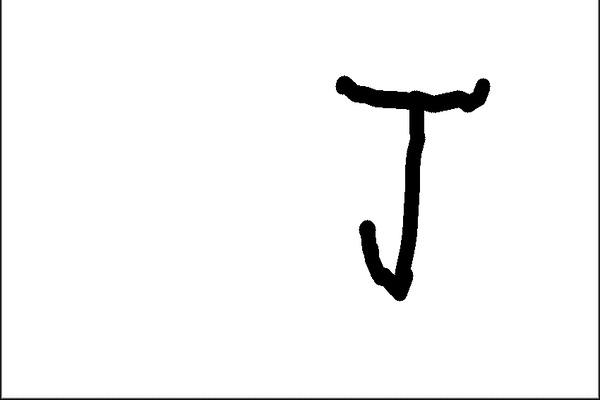J: (327, 67, 496, 306)
